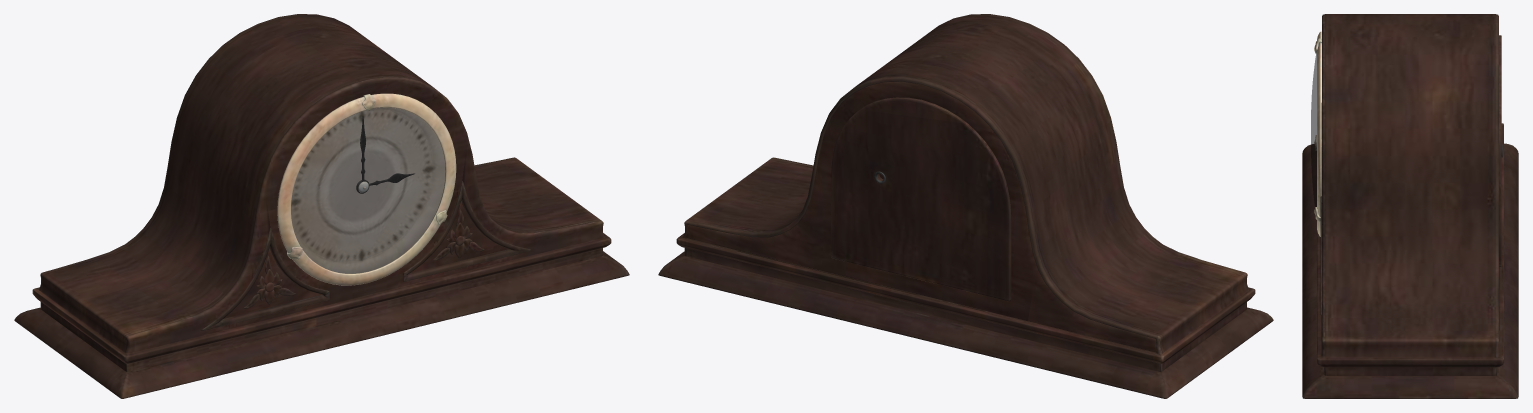
Rendered from mantel-clock.glb.
The picture shows the model from 3 angles, left to right: view 1: azimuth 30°, elevation 25°; view 2: azimuth 150°, elevation 25°; view 3: azimuth 270°, elevation 25°; orthographic projection.
Parts seen in each view (by area): view 1: mantel_clock_01, mantel_clock_01_glass; view 2: mantel_clock_01; view 3: mantel_clock_01, mantel_clock_01_glass.
Boxes of the visible parts, bbox=[...] form: mantel_clock_01: bbox=[14, 14, 629, 398]; mantel_clock_01_glass: bbox=[291, 108, 445, 273]; mantel_clock_01: bbox=[658, 14, 1273, 398]; mantel_clock_01: bbox=[1302, 14, 1518, 398]; mantel_clock_01_glass: bbox=[1311, 53, 1316, 207].
Size of the model in its own units: 0.3423 by 0.1605 by 0.1262.
2 materials, 2 textured.
